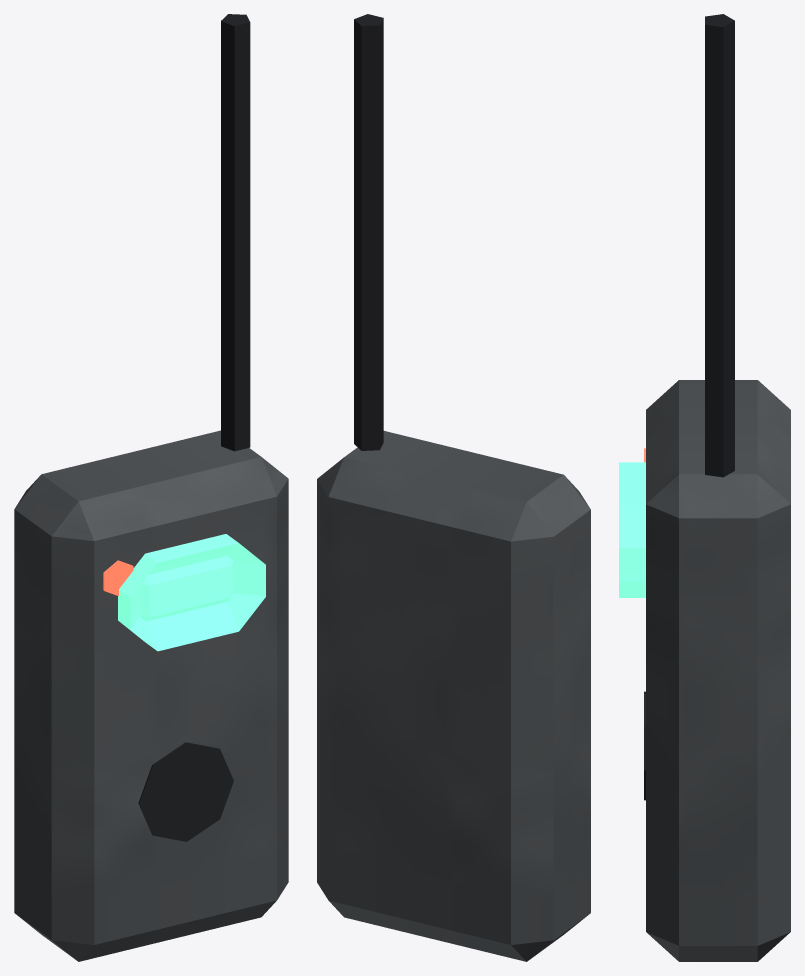
Rendered from item_radio.glb.
3 renders of one model, left to right at view 1: azimuth 30°, elevation 25°; view 2: azimuth 150°, elevation 25°; view 3: azimuth 270°, elevation 25°, orthographic. The views are drawn at different scales.
Visible parts, largest first — view 1: body; view 2: body; view 3: body.
Boxes of the visible parts, x1=… form: body: x1=14, y1=14, x2=288, y2=961; body: x1=317, y1=14, x2=590, y2=961; body: x1=619, y1=14, x2=790, y2=961.
Bounding box in the file's own units: 0.07 × 0.25 × 0.0415.
Materials: 5 (3 with a texture image).
